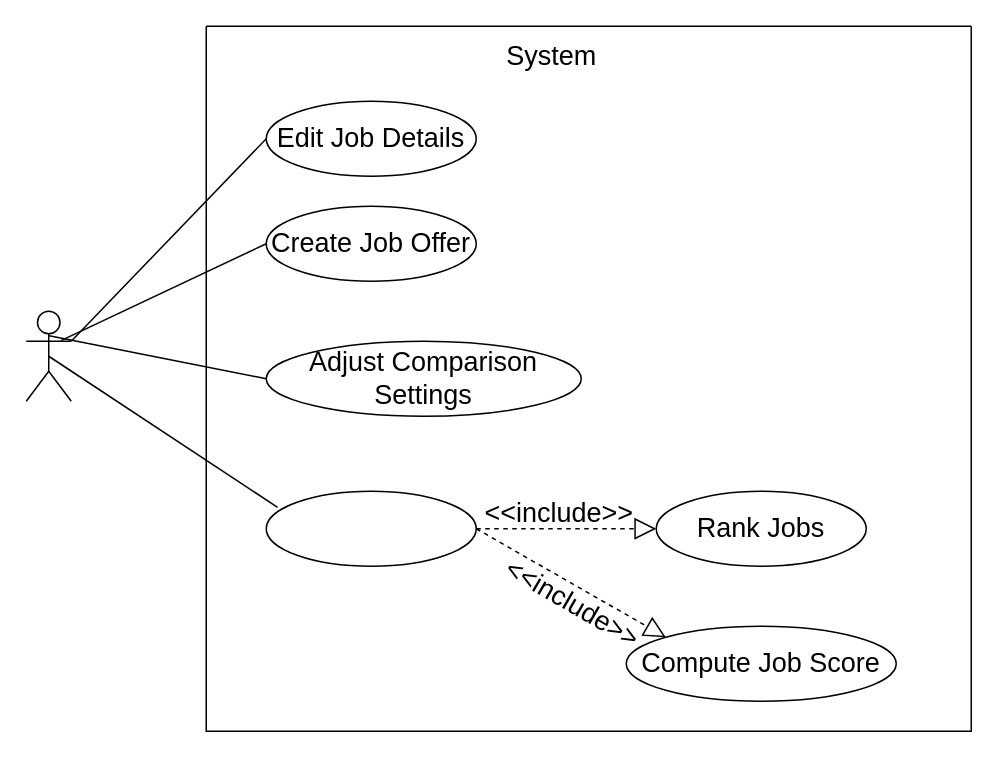
Some shapes in this 998 by 758 pixel diagram are drawn without their labels. The shapes that lost their labels are listed below. From the top down, each one's centre as x and y in pixels, then its label:
At (x=48, y=355): "Actor".
At (x=370, y=528): "Compare Jobs".
